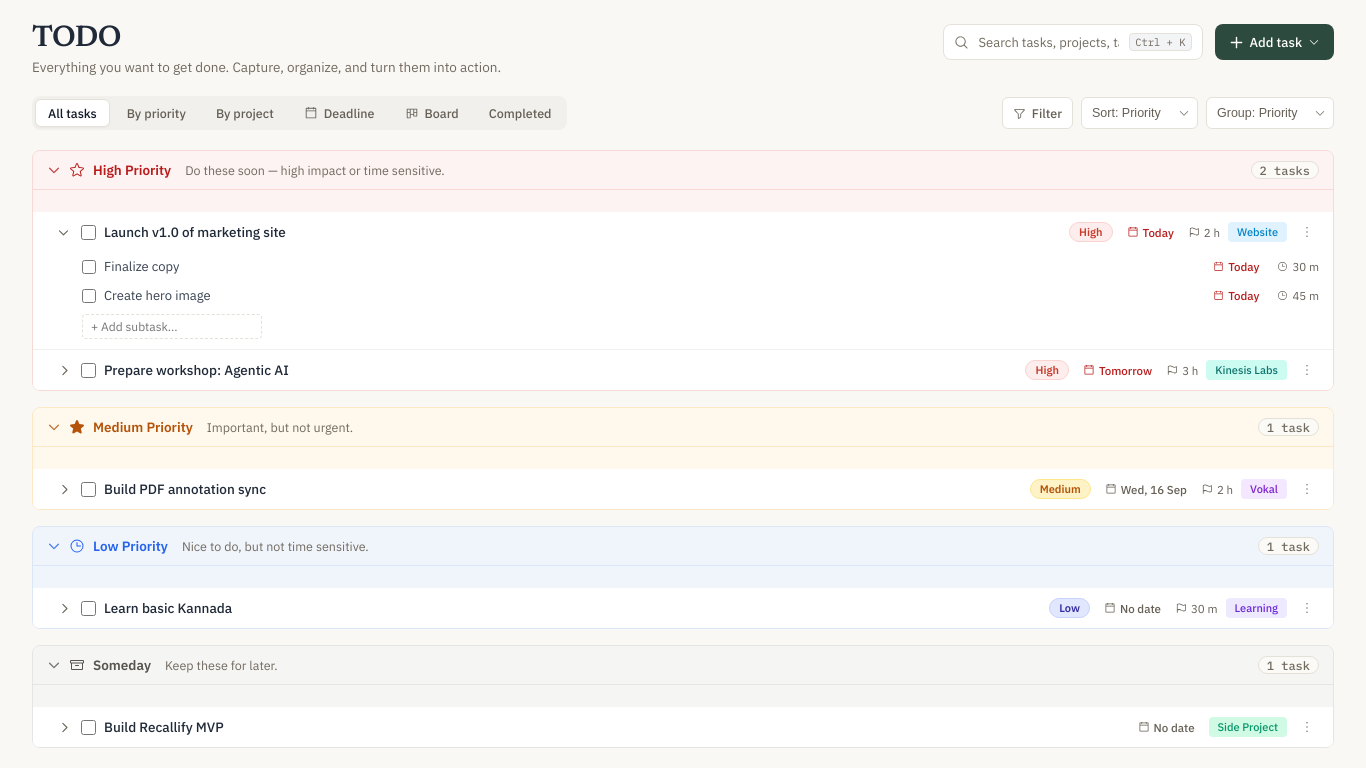
Test: TodoView render flows › switches to Kanban board view when Board tab is clicked
The image size is (1366, 768).
Click the tab "Board".
click(432, 113)  # box [392,99,472,127]
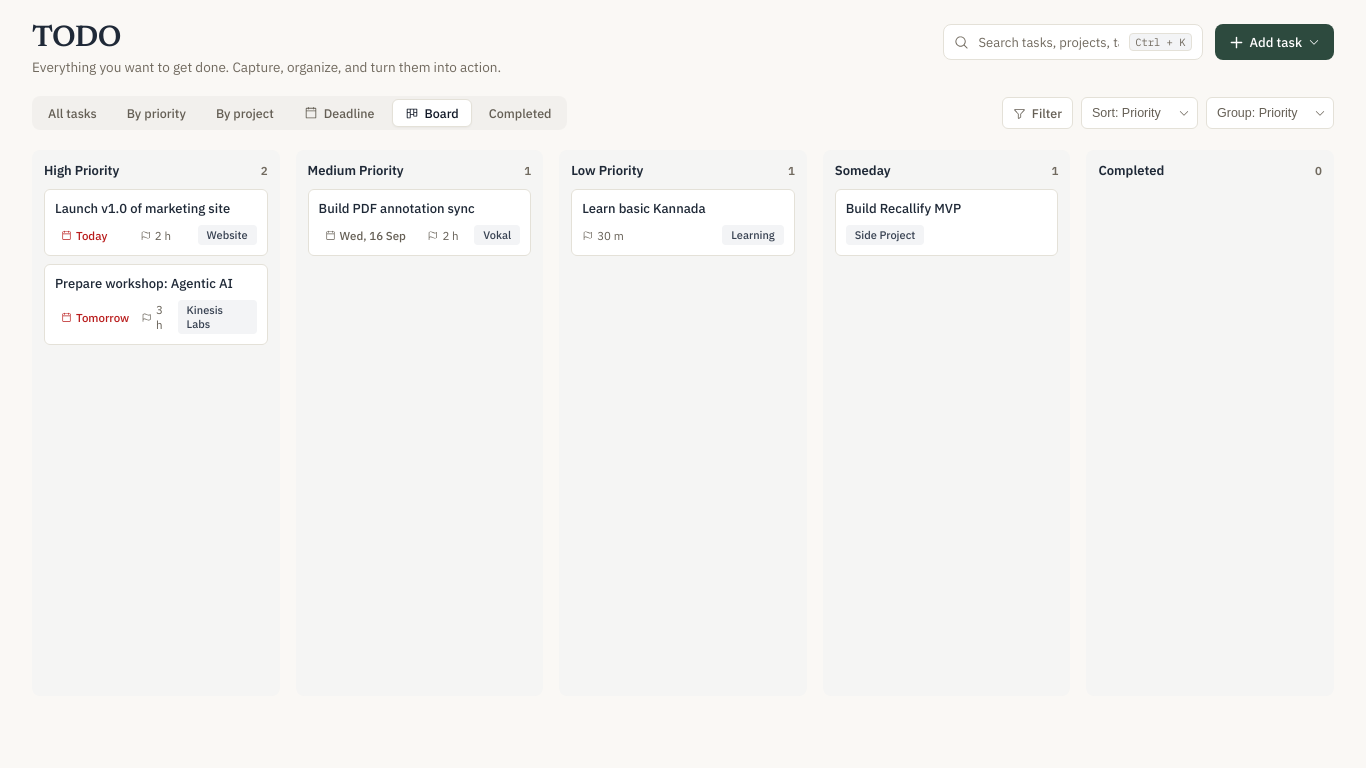
Expected: the text "Completed" is shown, [1098,162,1164,179]
